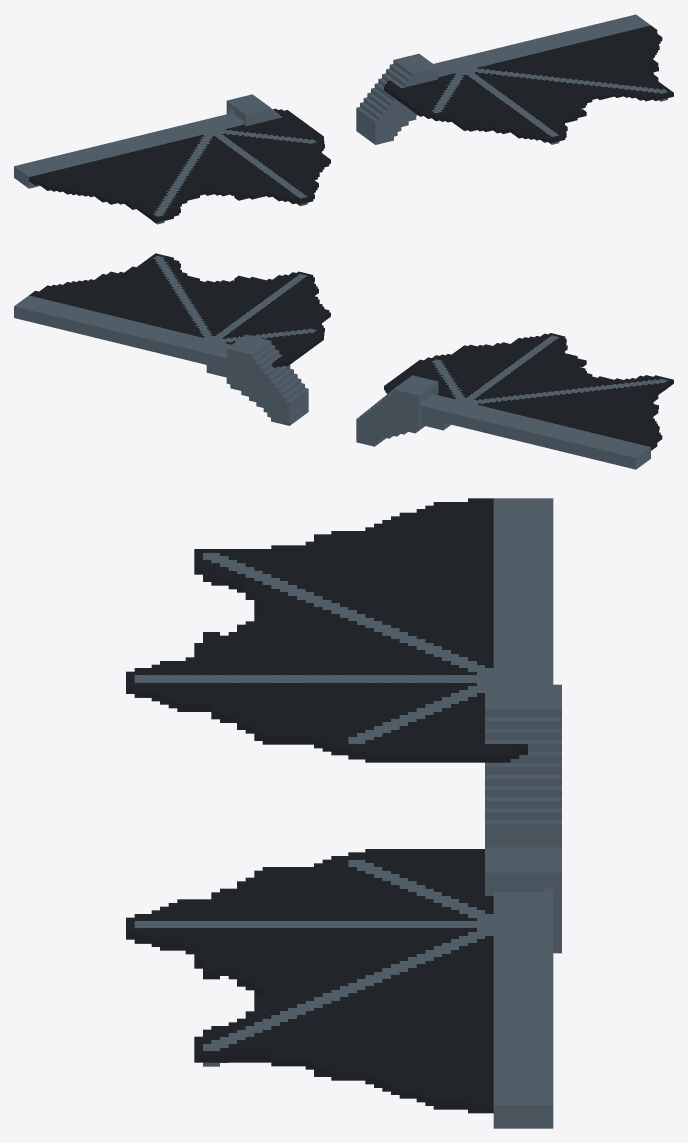
Rendered from 末影龙翅膀.gltf.
3 views of the same model, one above another, from view 1: azimuth 30°, elevation 25°; view 2: azimuth 150°, elevation 25°; view 3: azimuth 270°, elevation 25° (orthographic). The views are drawn at different scales.
Visible parts, largest first — view 1: Object; view 2: Object; view 3: Object.
Part boxes in pixels (x1,y1,x2,y2): Object: (14, 14, 673, 224); Object: (14, 253, 673, 469); Object: (126, 498, 561, 1128).
Bounding box in the file's own units: 168 × 16 × 51.
Materials: 1 (1 with a texture image).
